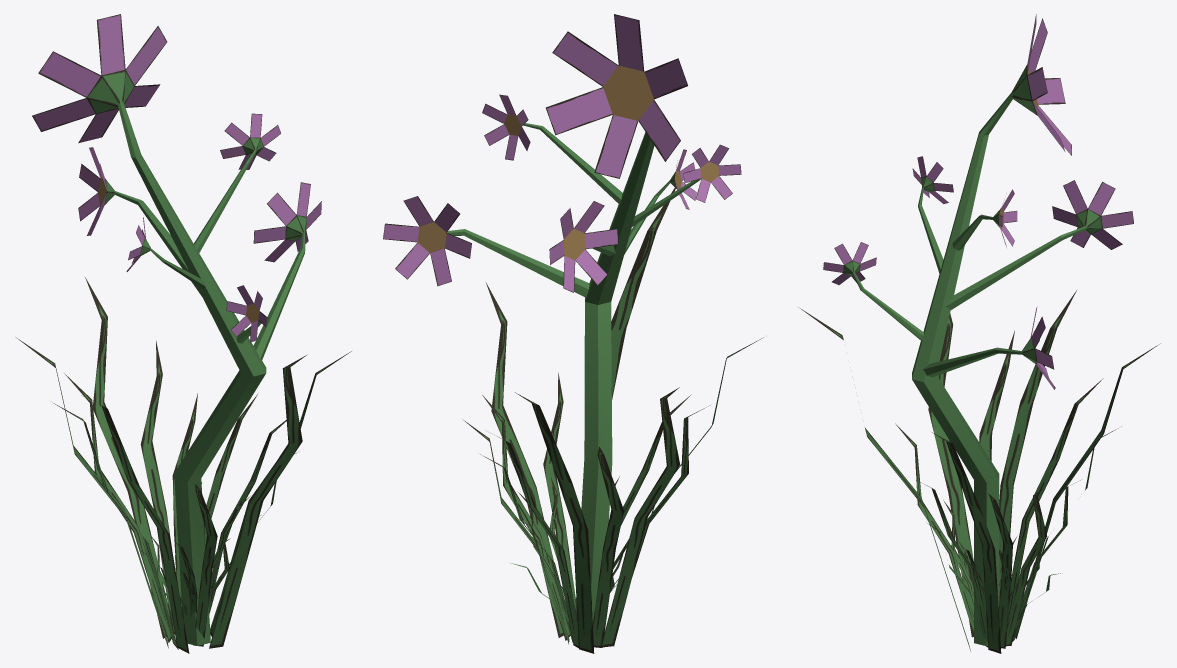
File: Flower.fbx
3 renders of one model, left to right at view 1: azimuth 30°, elevation 25°; view 2: azimuth 150°, elevation 25°; view 3: azimuth 270°, elevation 25°, orthographic. The views are drawn at different scales.
Parts seen in each view (by area): view 1: Flower; view 2: Flower; view 3: Flower.
Boxes of the visible parts, x1,y1,x2,y2 form: Flower: (16, 14, 351, 653); Flower: (383, 14, 763, 653); Flower: (798, 14, 1160, 653).
Bounding box in the file's own units: 5.31 × 10.33 × 5.74.
